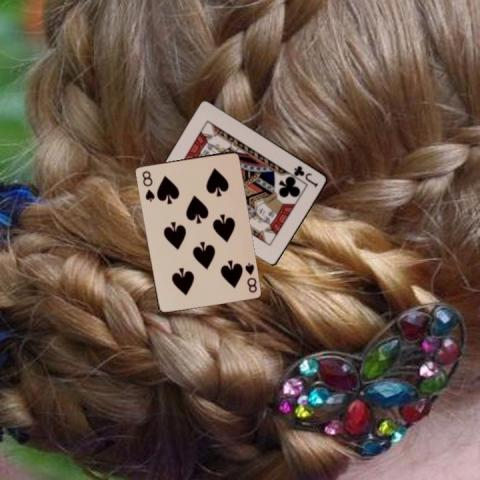8s: (139, 167, 156, 203), (242, 259, 258, 294)
Jc: (291, 163, 320, 188)
